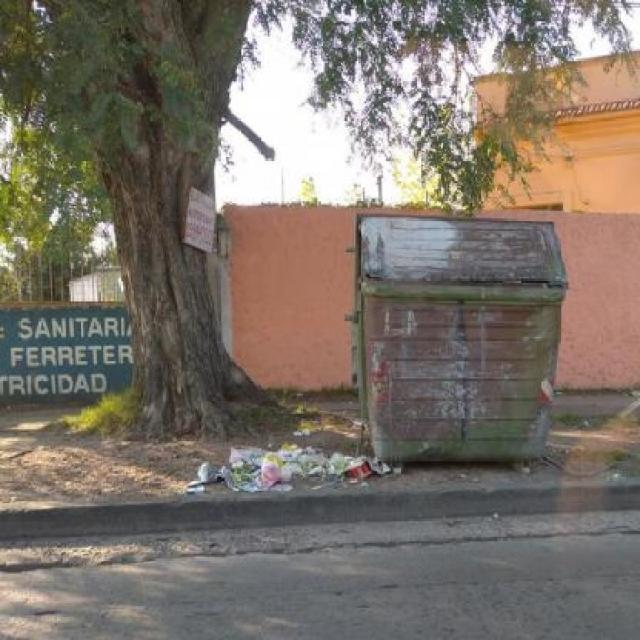garbage: (197, 433, 378, 486), (183, 183, 226, 262), (283, 395, 330, 450), (534, 448, 613, 480)
